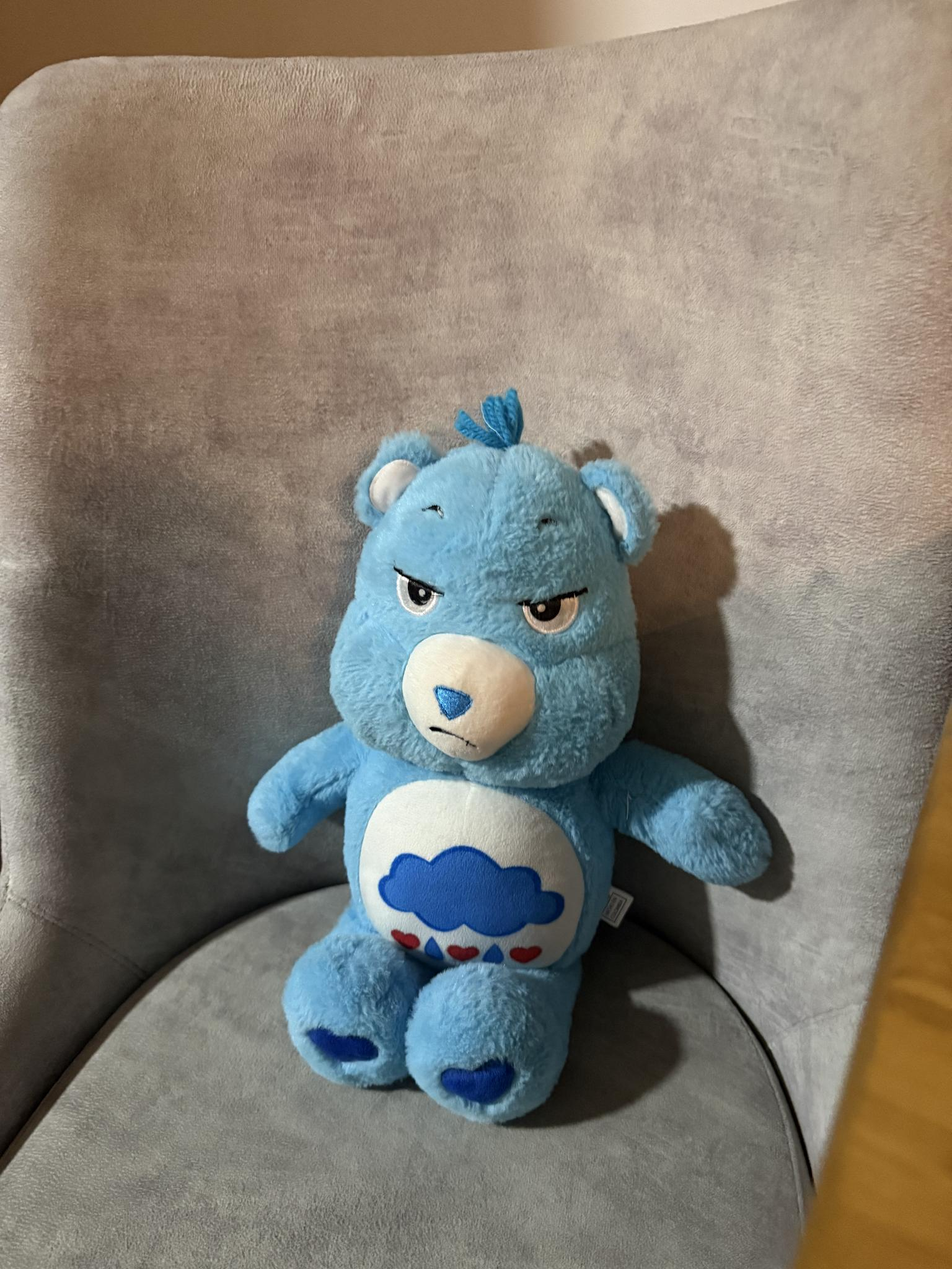peluche_Juan Jose: (244, 402, 791, 1124)
